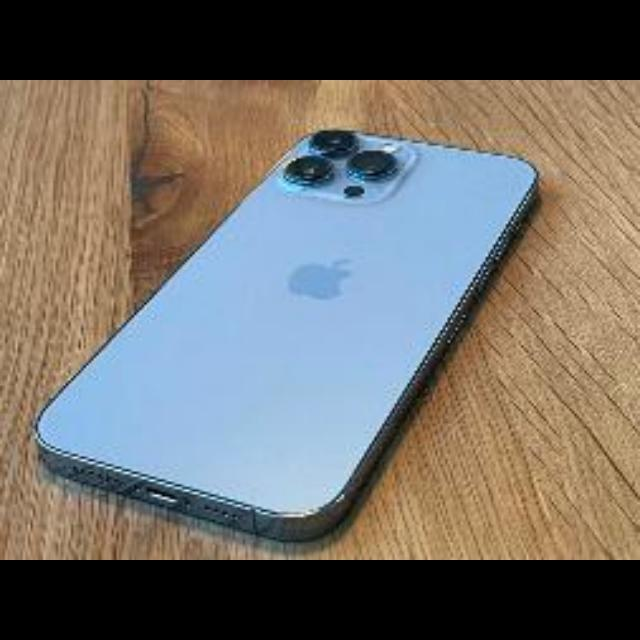Phone: (37, 128, 540, 542)
